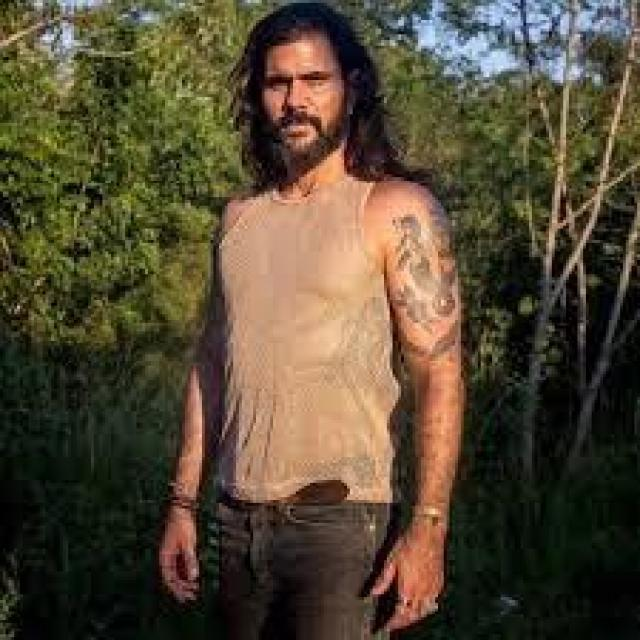person: (154, 3, 464, 637)
